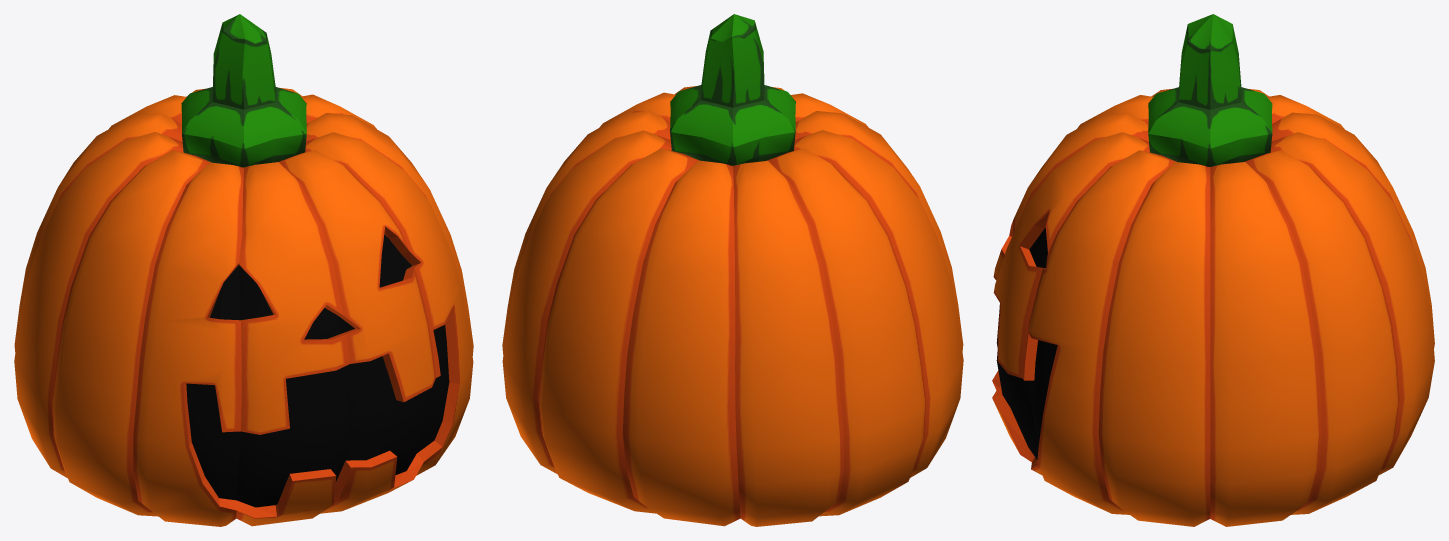
File: 37南瓜头.fbx
The picture shows the model from 3 angles, left to right: view 1: azimuth 30°, elevation 25°; view 2: azimuth 150°, elevation 25°; view 3: azimuth 270°, elevation 25°; orthographic projection.
Parts seen in each view (by area): view 1: 37南瓜头; view 2: 37南瓜头; view 3: 37南瓜头.
Part boxes in pixels (x1,y1,x2,y2): 37南瓜头: [14, 14, 473, 526]; 37南瓜头: [502, 14, 963, 526]; 37南瓜头: [992, 14, 1434, 526].
Size of the model in its own units: 0.6035 by 0.6894 by 0.5883.
